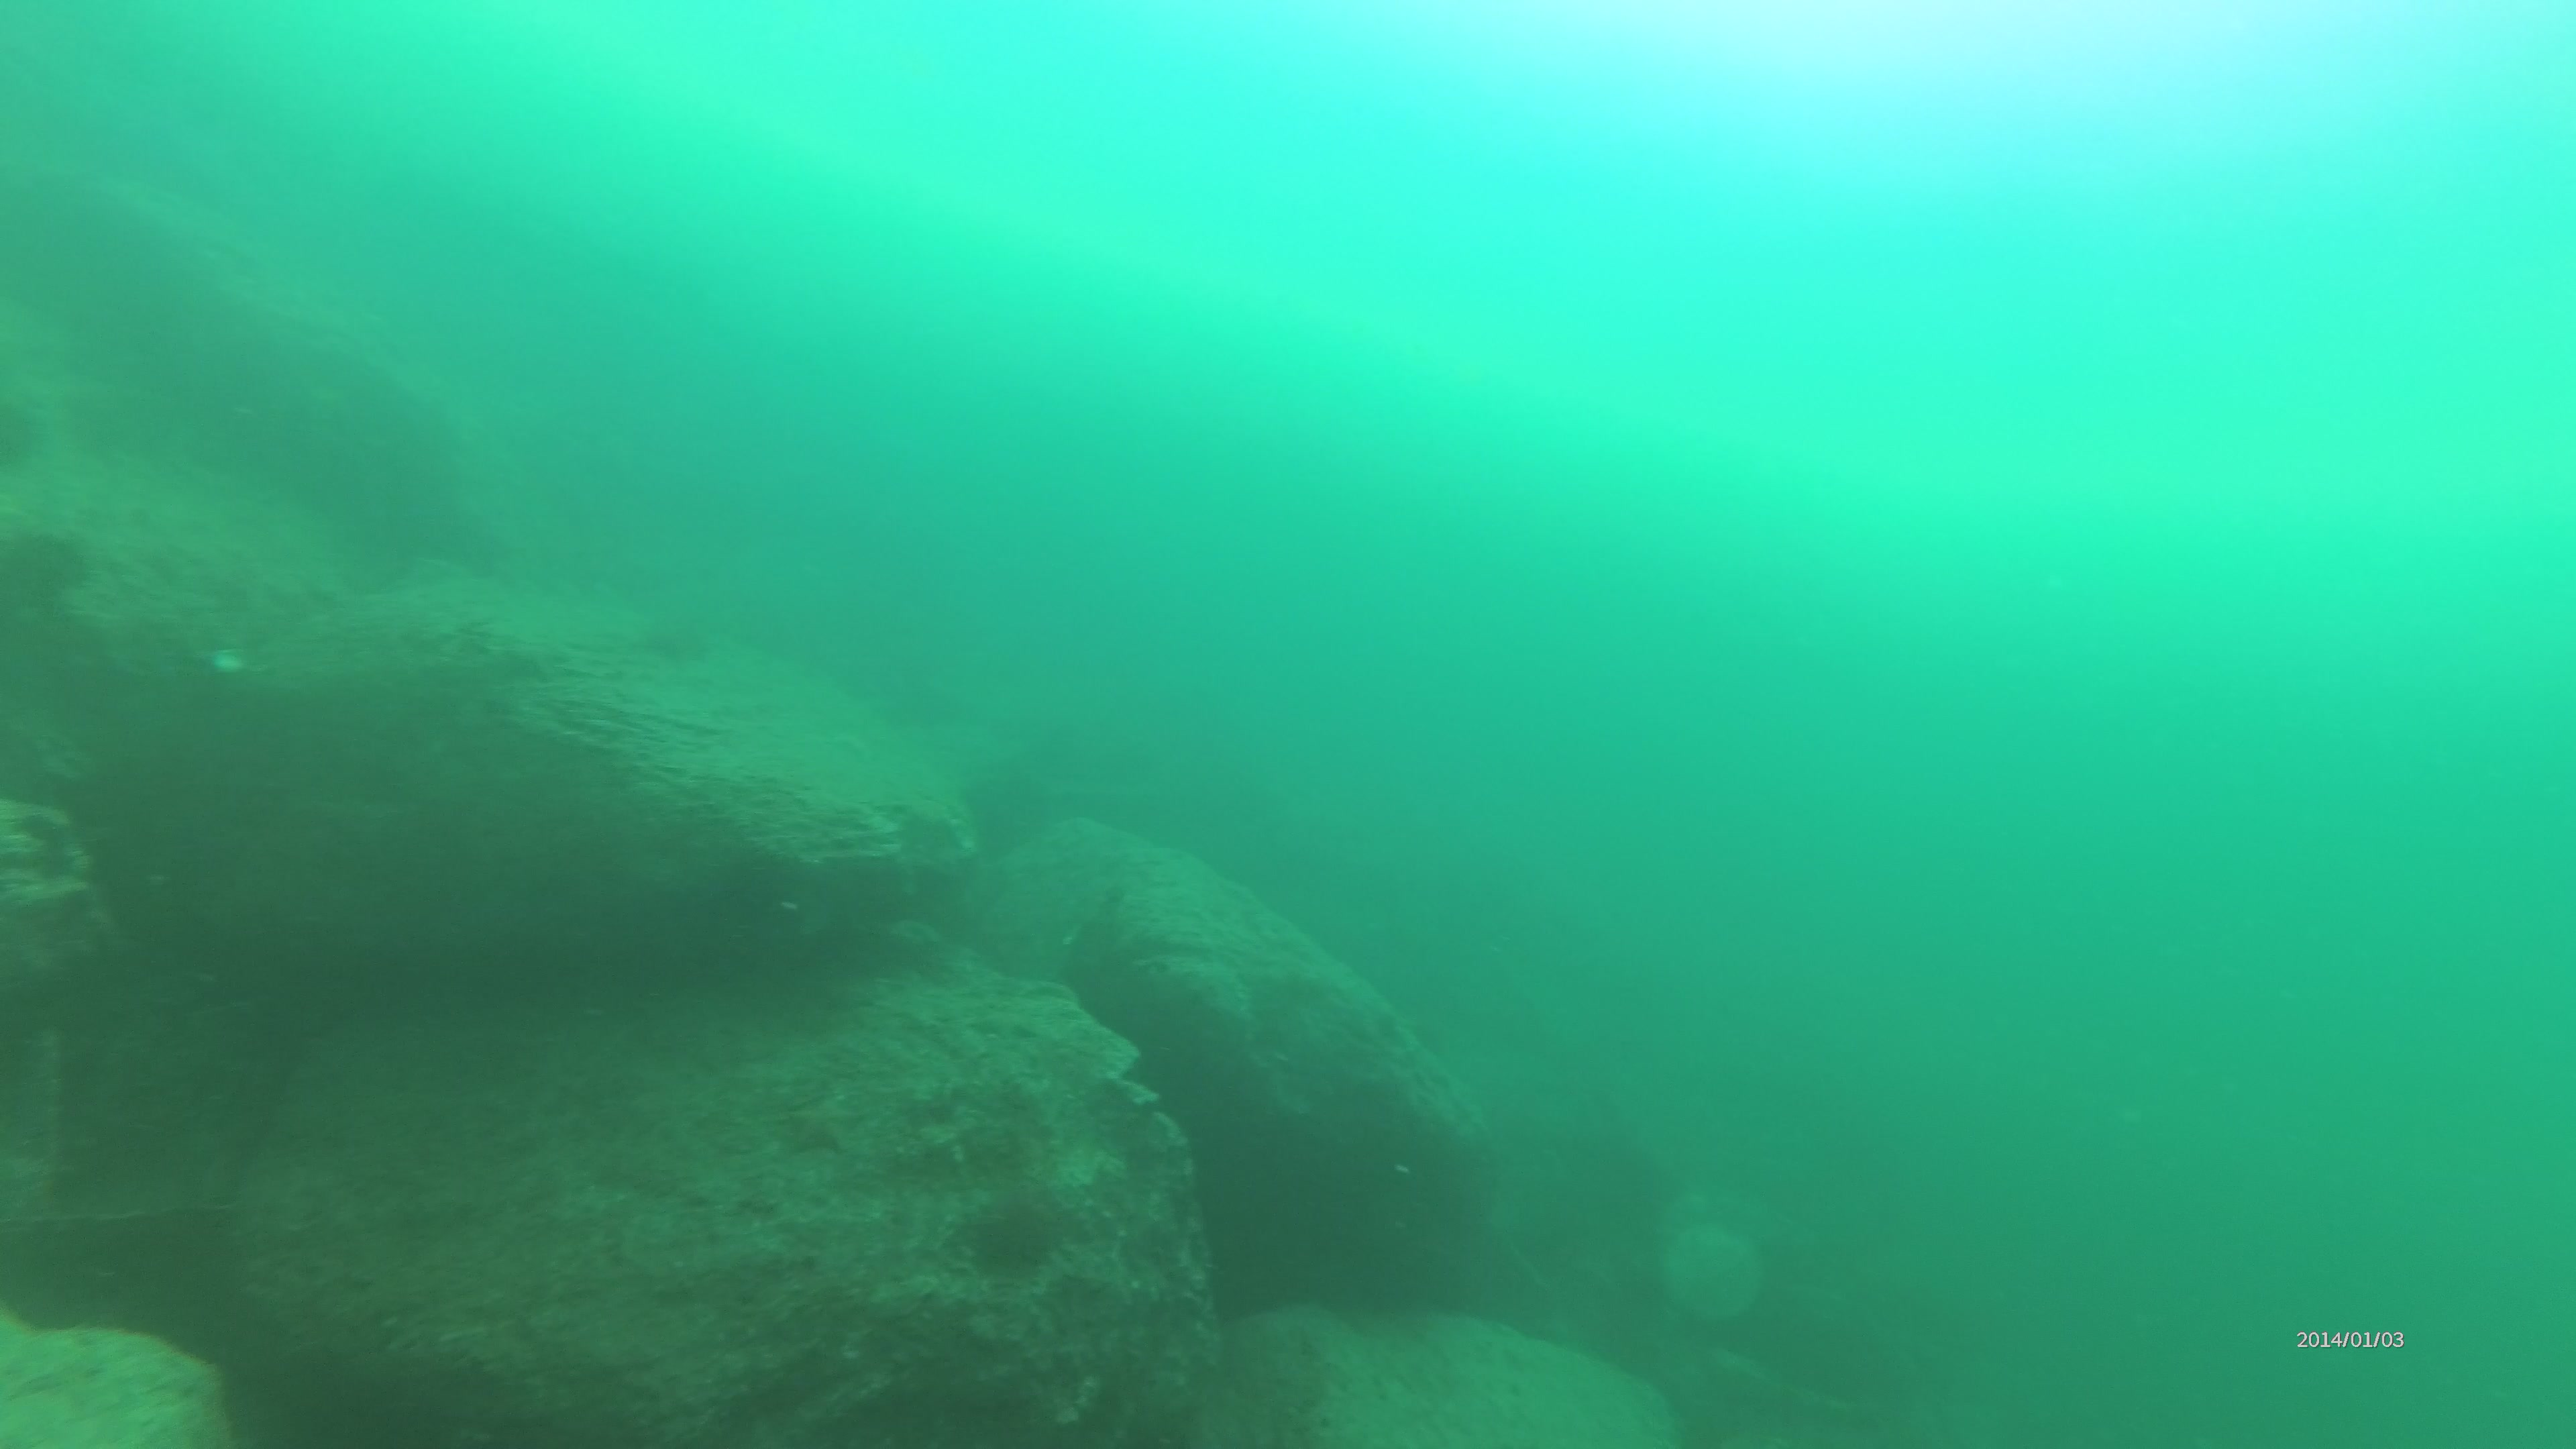echinus: (966, 1171, 1083, 1269)
starfish: (791, 1085, 867, 1154)
